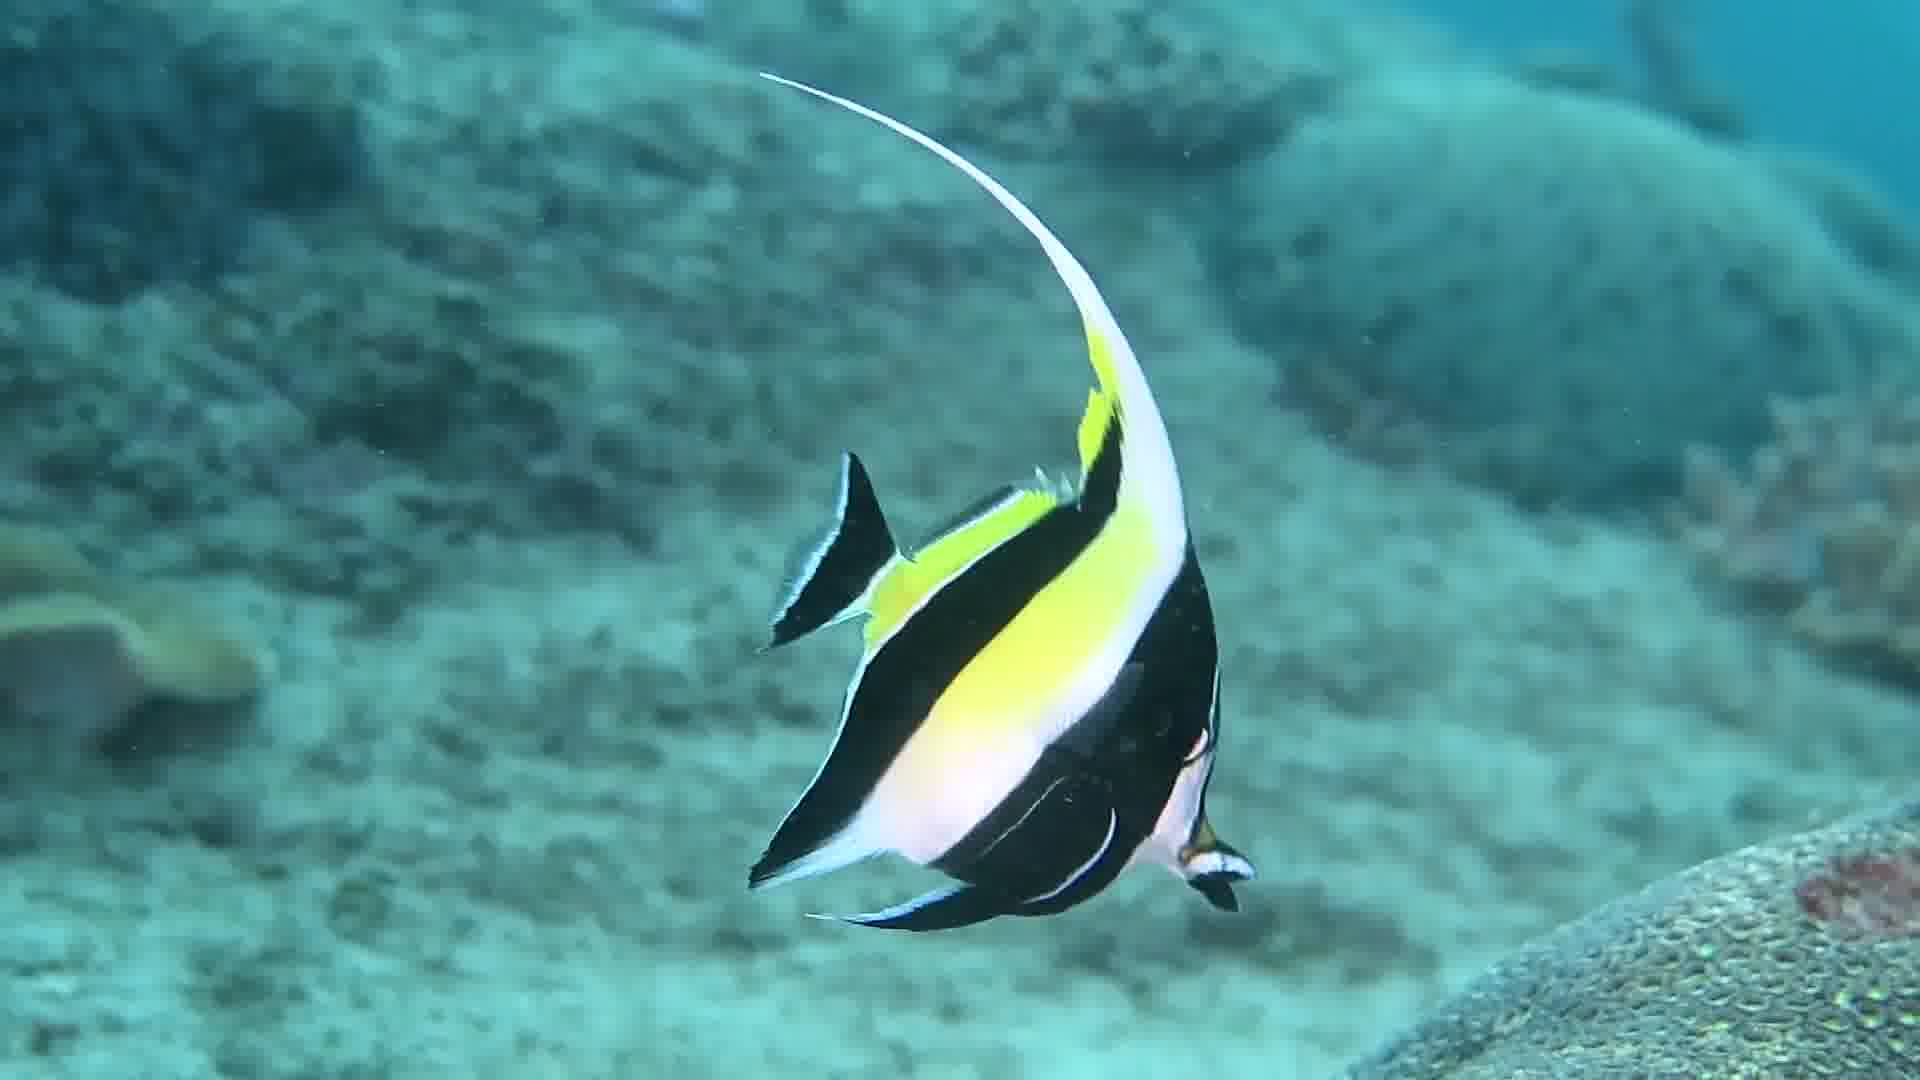Zanclus cornutus: (723, 146, 1257, 1021)
